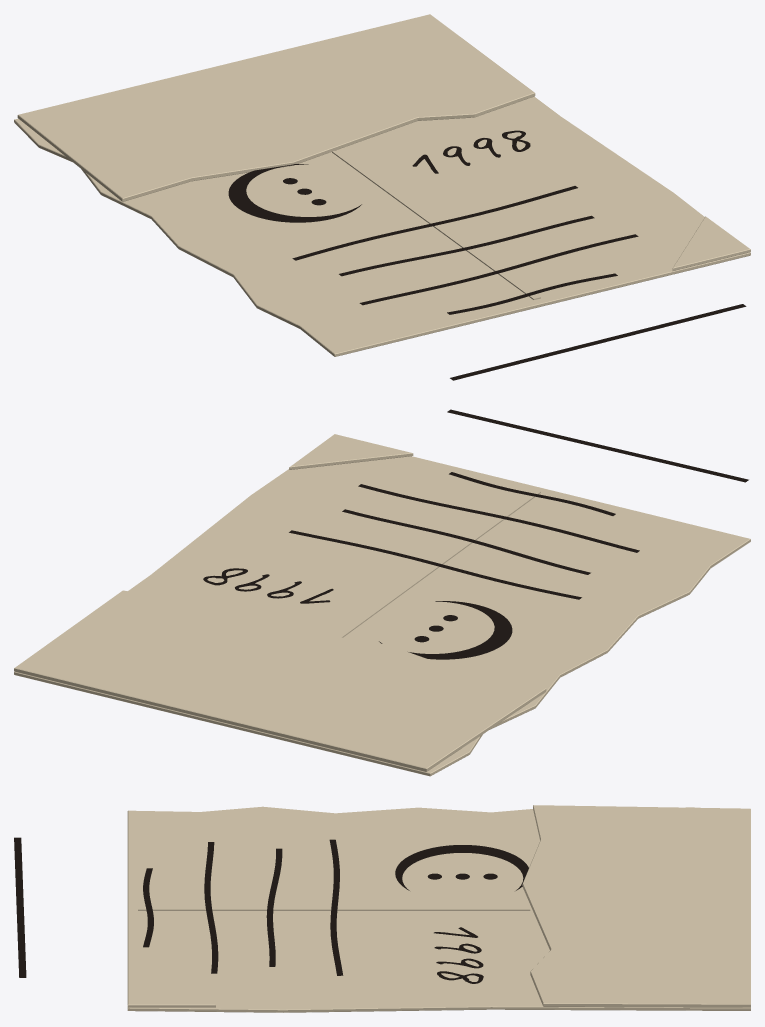
The model's file is leyla_note_1998.glb.
3 views of the same model, one above another, from view 1: azimuth 30°, elevation 25°; view 2: azimuth 150°, elevation 25°; view 3: azimuth 270°, elevation 25° (orthographic). The views are drawn at different scales.
Visible parts, largest first — view 1: leyla_note_1998, ink; view 2: leyla_note_1998, ink; view 3: leyla_note_1998, ink.
Boxes of the visible parts, x1,y1,x2,y2 form: leyla_note_1998: (14, 14, 750, 356); ink: (228, 130, 746, 380); leyla_note_1998: (14, 434, 750, 776); ink: (203, 409, 748, 659); leyla_note_1998: (127, 805, 750, 1012); ink: (14, 837, 528, 983).
Size of the model in its own units: 0.0928 by 0.0015 by 0.1419.
